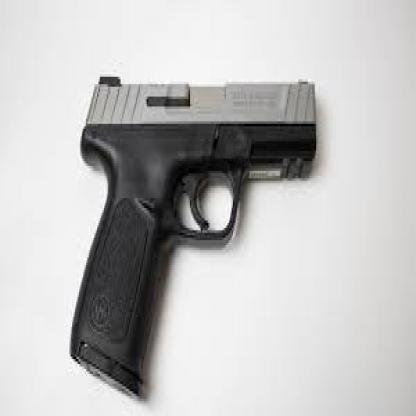Pistol: (64, 67, 316, 394)
